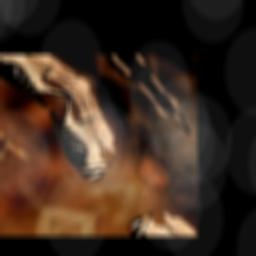Woodpecker: (34, 91, 132, 189)
